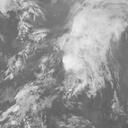cyclone: (61, 9, 120, 96)
